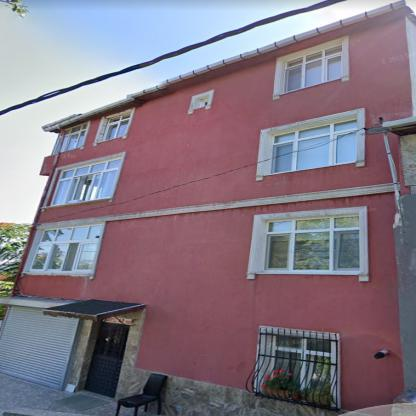door: (78, 325, 126, 395)
window: (261, 216, 357, 272), (267, 120, 355, 173), (26, 224, 101, 272), (265, 337, 329, 390), (54, 159, 120, 204), (282, 46, 342, 92), (52, 124, 86, 152), (105, 114, 128, 139)
